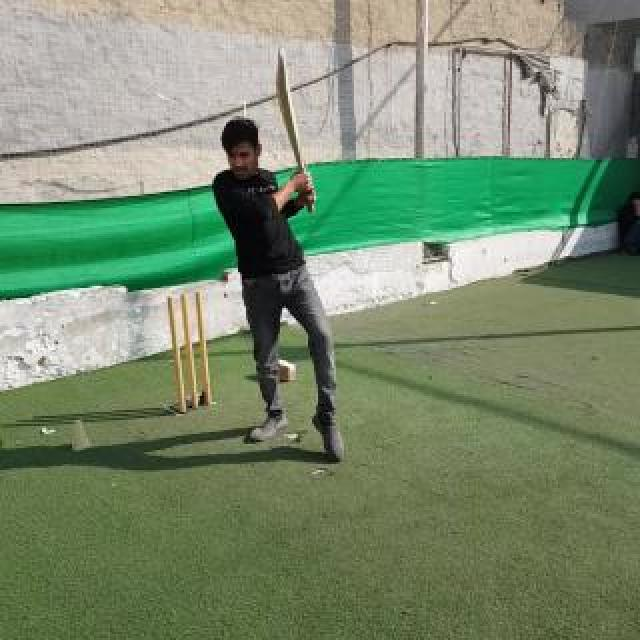bat: (276, 46, 316, 214)
